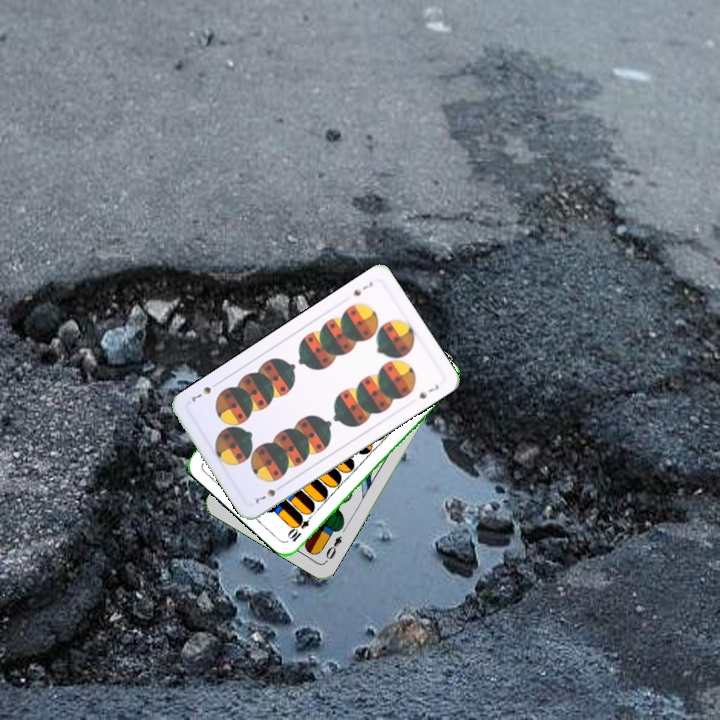E10: (284, 508, 316, 545)
EO: (321, 532, 344, 565)
S7: (249, 480, 286, 506), (349, 277, 375, 299)
